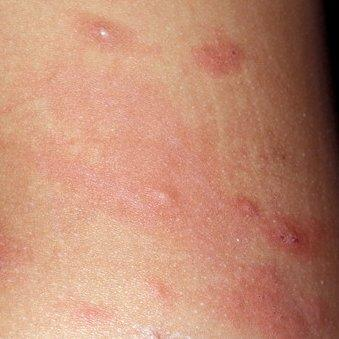Fleas: (31, 140, 207, 225), (190, 26, 250, 85), (69, 12, 142, 59), (269, 219, 313, 256), (225, 192, 263, 224)
